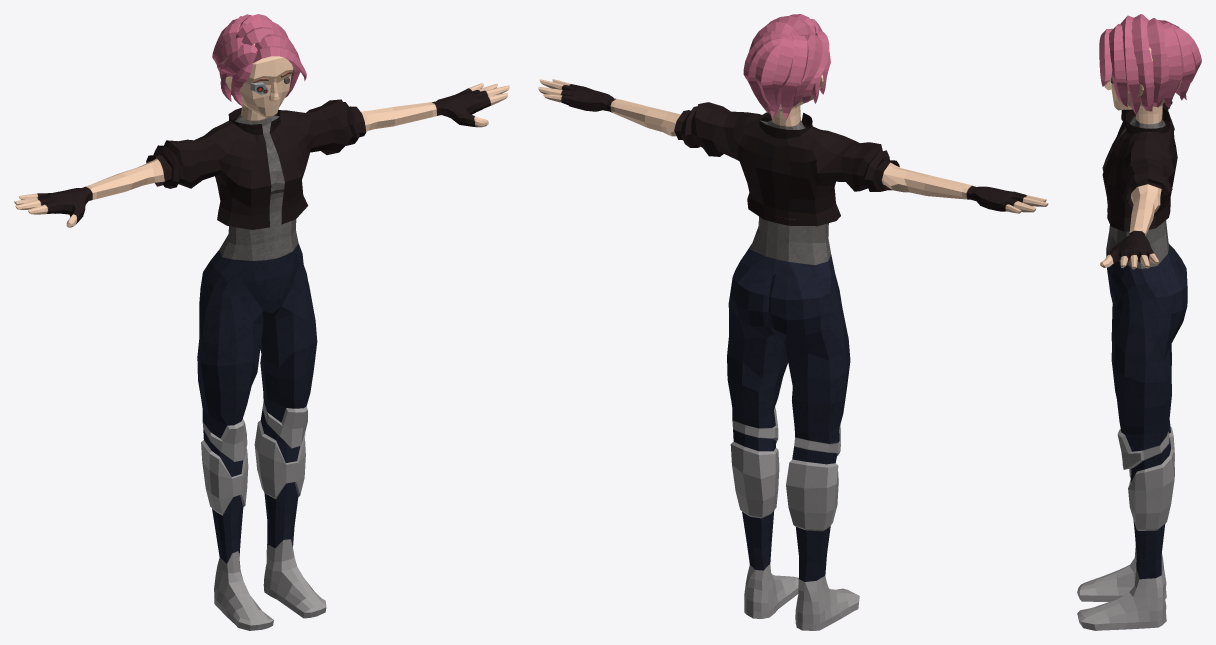
File: Cyberpunk character8.fbx
3 renders of one model, left to right at view 1: azimuth 30°, elevation 25°; view 2: azimuth 150°, elevation 25°; view 3: azimuth 270°, elevation 25°, orthographic. The views are drawn at different scales.
Parts seen in each view (by area): view 1: Cyberpunk_characters8; view 2: Cyberpunk_characters8; view 3: Cyberpunk_characters8.
Boxes of the visible parts, left/top/right/bottom form: Cyberpunk_characters8: left=14, top=14, right=509, bottom=630; Cyberpunk_characters8: left=538, top=14, right=1048, bottom=630; Cyberpunk_characters8: left=1077, top=14, right=1201, bottom=630.
Size of the model in its own units: 155 by 175 by 33.4.
